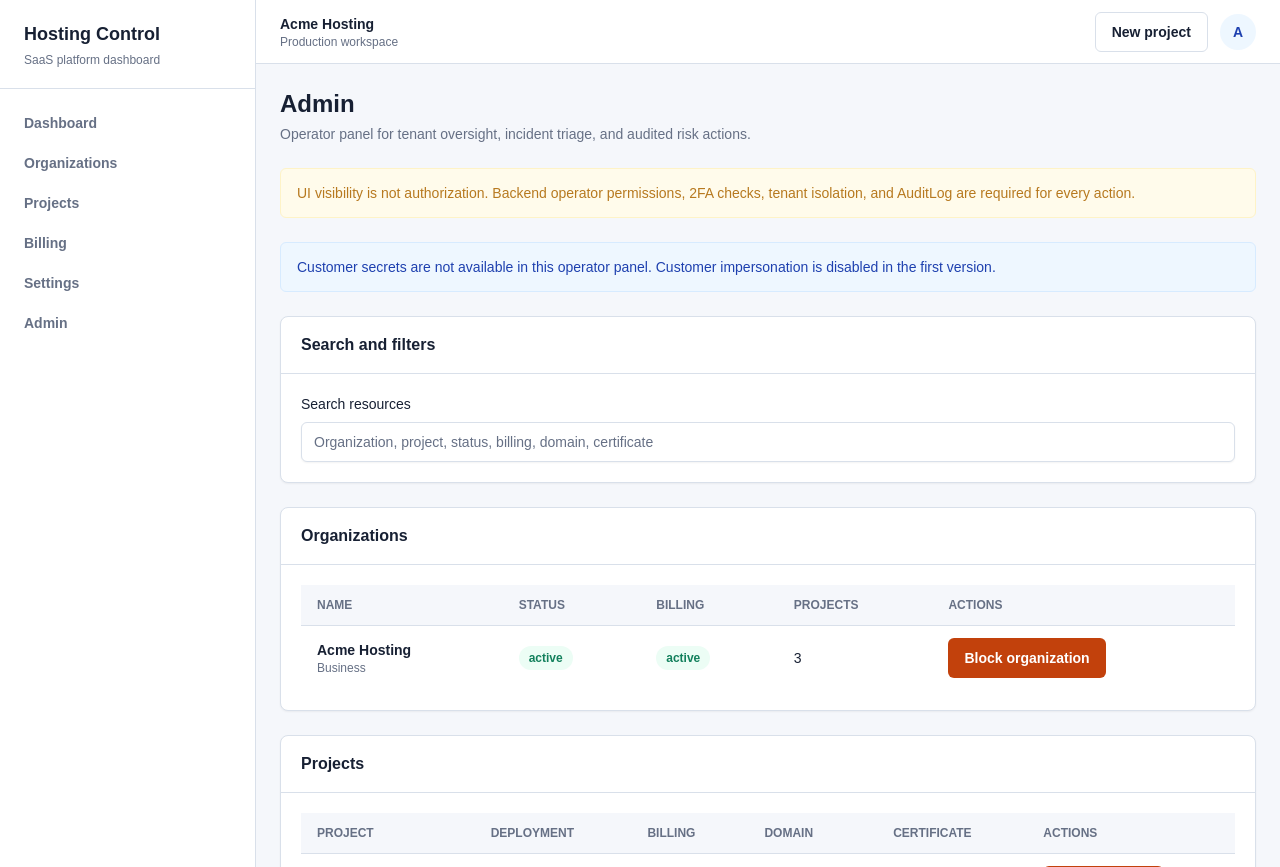
Test: AdminPage › requires a reason before blocking an organization
Step 1. Click the button "Block organization" → (1027, 658), box [948, 638, 1106, 678]
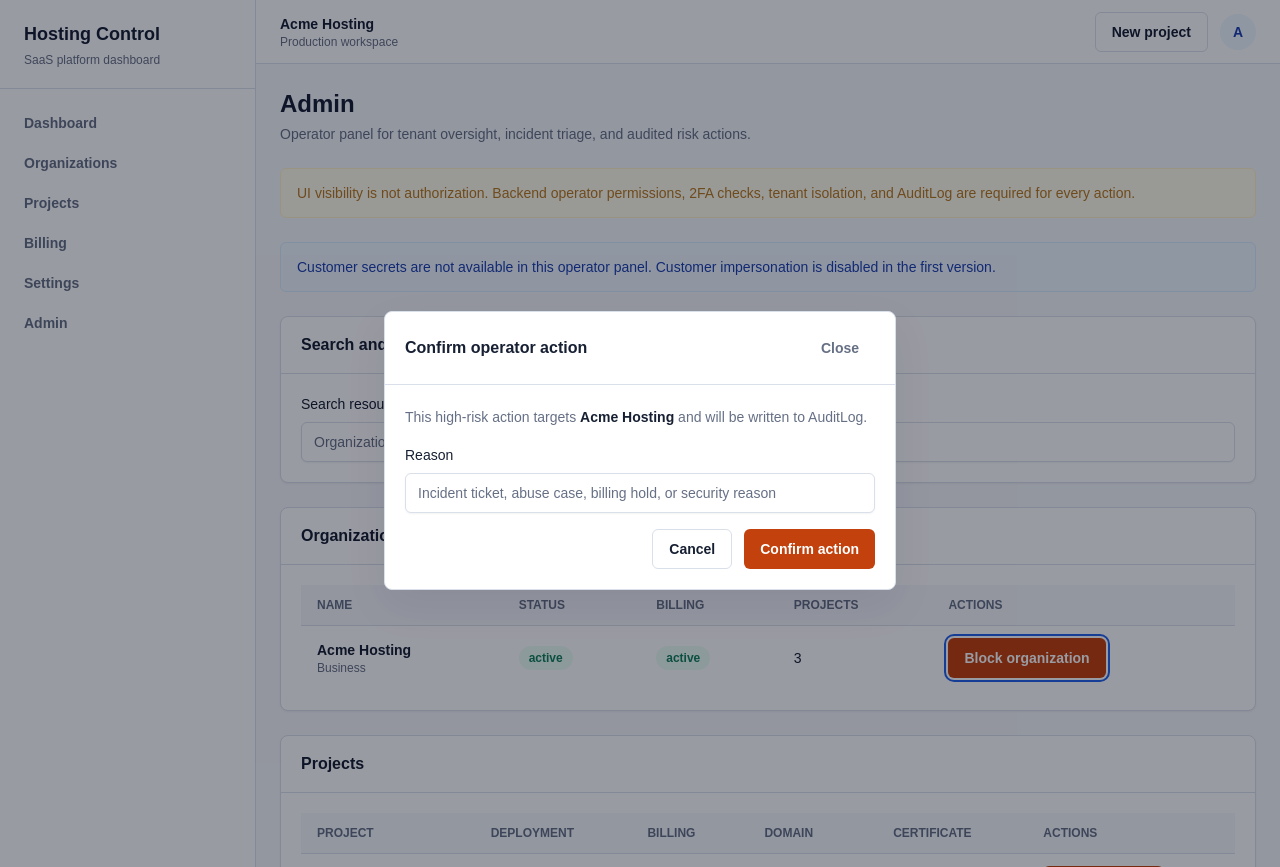
Step 2. Click the button "Confirm action" → (810, 548), box [744, 528, 875, 568]
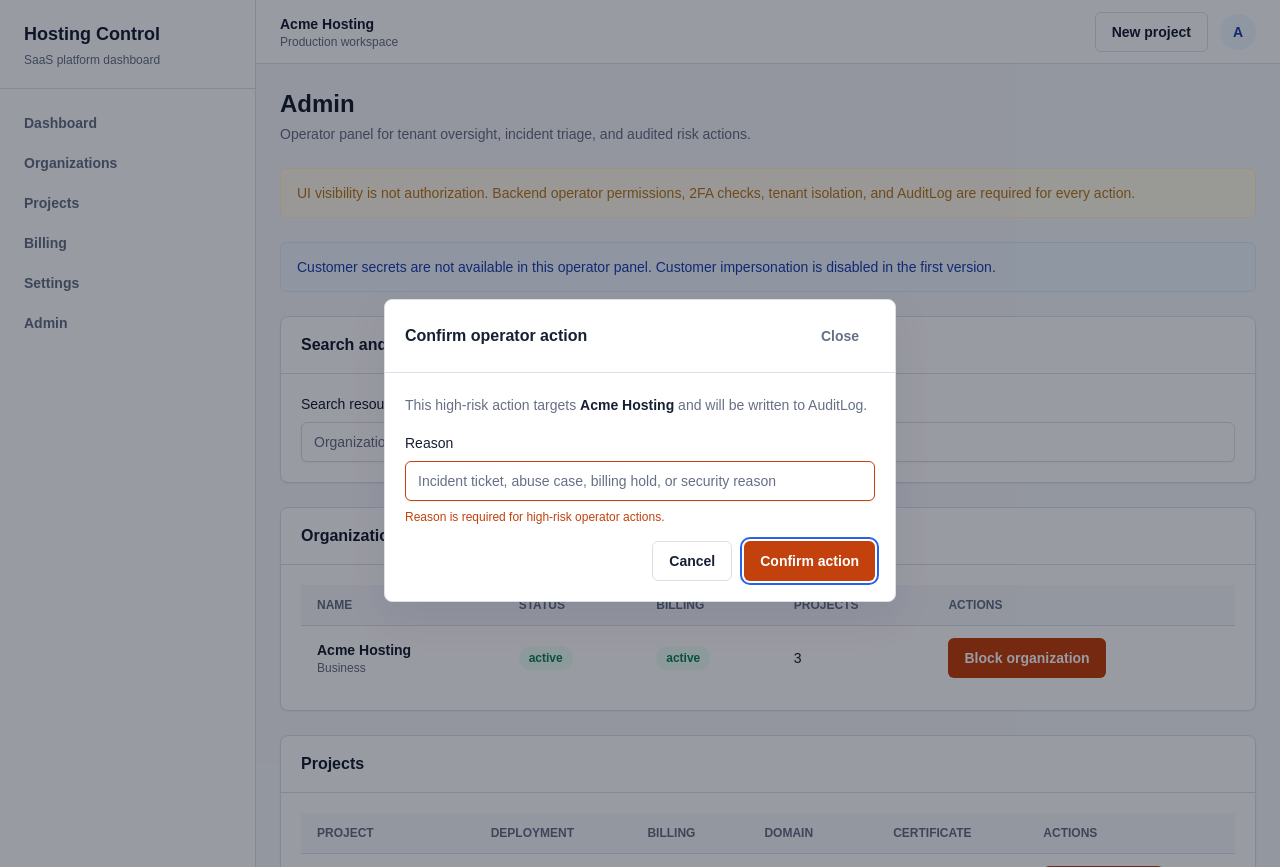
expect the text "Reason is required for high-risk operator actions." is shown: met, box [405, 510, 664, 524]
